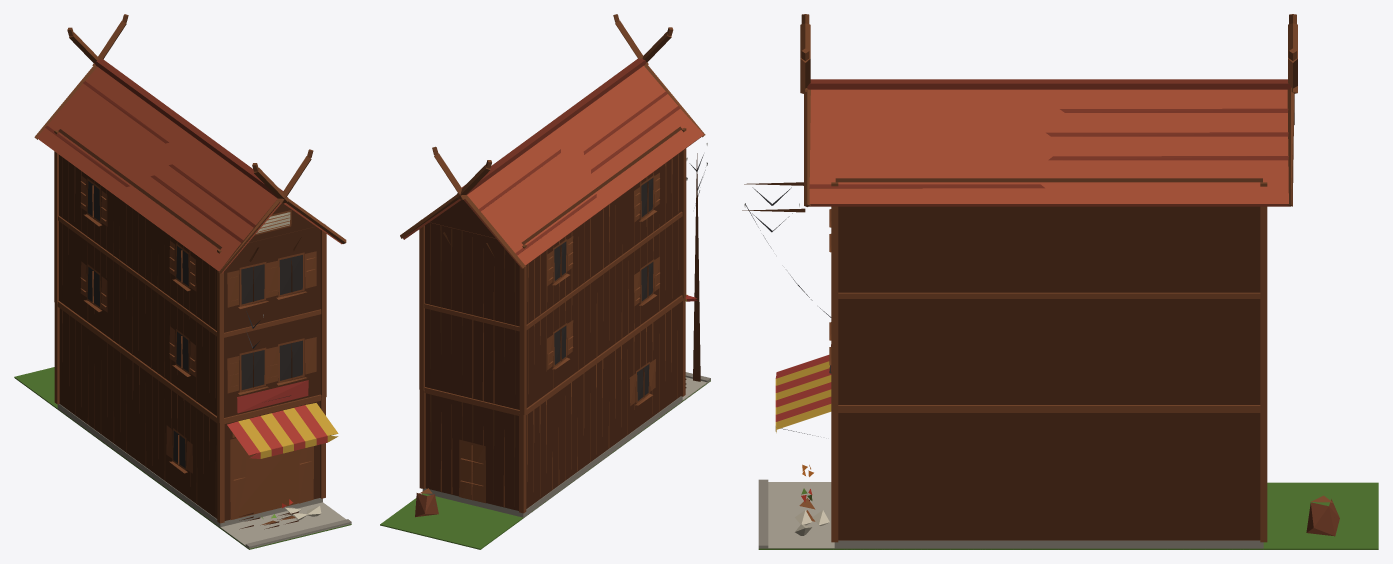
File: bay2_left.glb
3 renders of one model, left to right at view 1: azimuth 30°, elevation 25°; view 2: azimuth 150°, elevation 25°; view 3: azimuth 270°, elevation 25°, orthographic. The views are drawn at different scales.
Visible parts, largest first — view 1: body, windows; view 2: body, windows; view 3: body.
Boxes of the visible parts, left/top/right/bottom form: body: left=14, top=14, right=351, bottom=549; windows: left=87, top=181, right=302, bottom=468; body: left=380, top=14, right=710, bottom=549; windows: left=554, top=178, right=653, bottom=400; body: left=742, top=14, right=1378, bottom=549.
Bounding box in the file's own units: 5.02 × 13.74 × 16.4.
